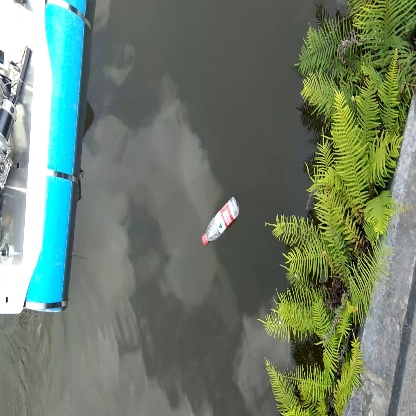bottle: (200, 195, 241, 251)
